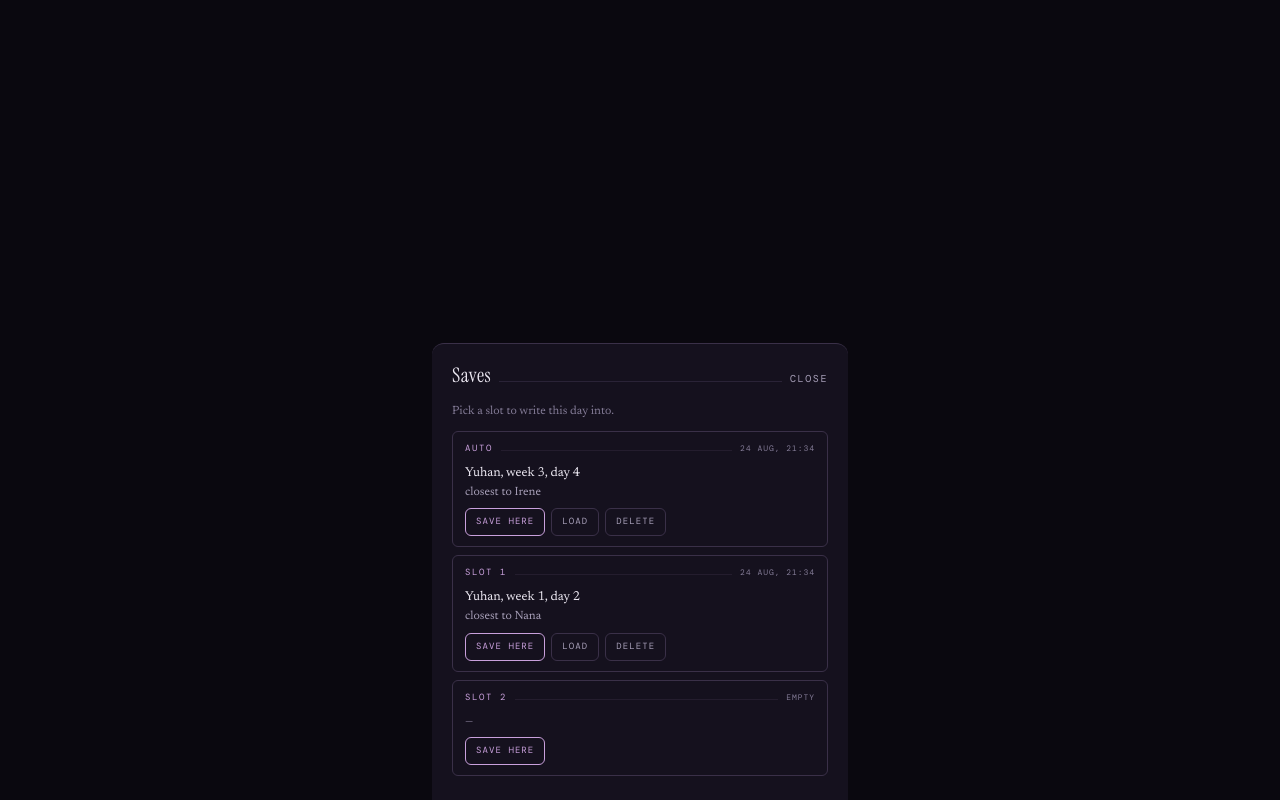
the destructive pair › does not overwrite an occupied slot on the first tap
This screenshot has width=1280, height=800.
Step 1. Click the button "Save here" below "Auto" → coordinates (505, 522), box [465,508,545,536]
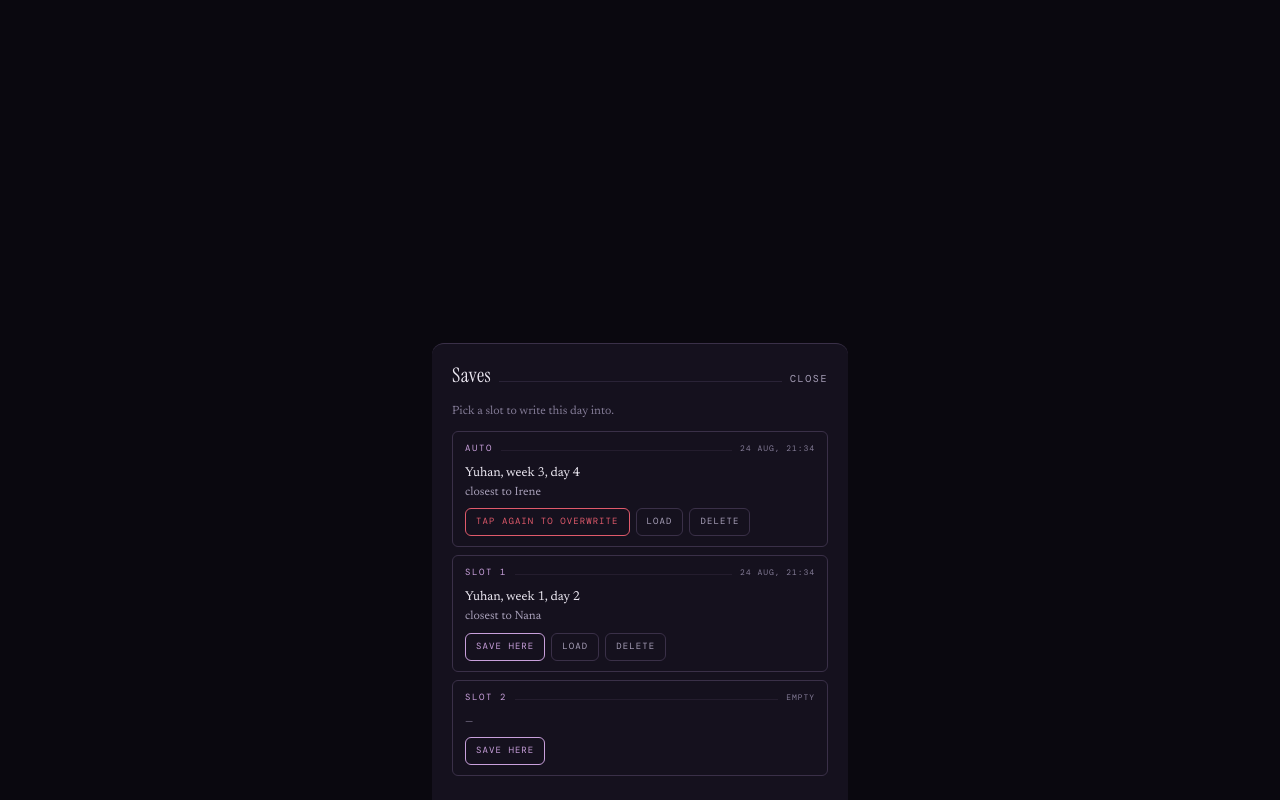
expect the button "Tap again to overwrite" is shown: met, box [465,508,630,536]
